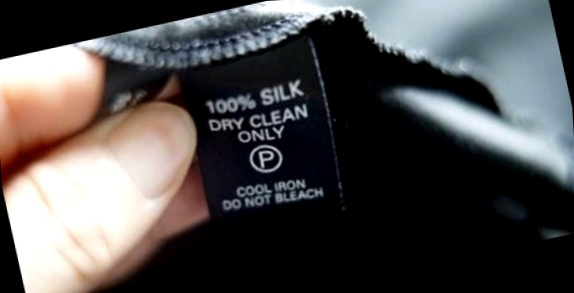dry_clean_any_solvent_except_trichloroethylene: (247, 139, 287, 176)
